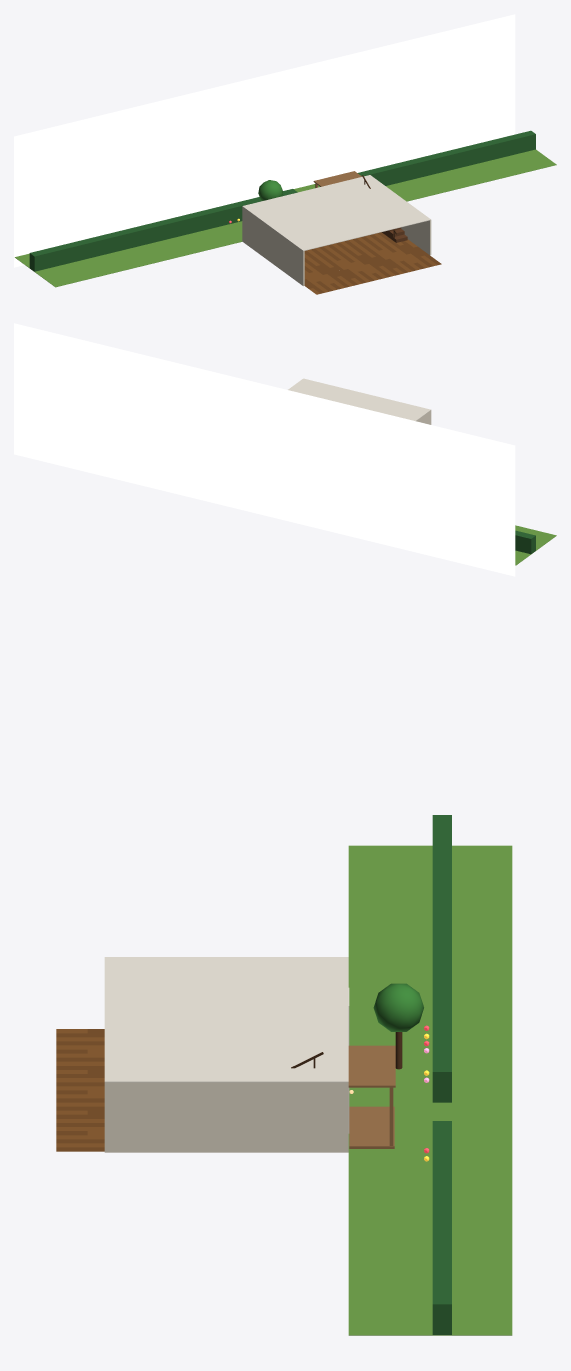
The model's file is big_house.glb.
The picture shows the model from 3 angles, top to bottom: view 1: azimuth 30°, elevation 25°; view 2: azimuth 150°, elevation 25°; view 3: azimuth 270°, elevation 25°; orthographic projection. The views are drawn at different scales.
Visible parts, largest first — view 1: Sky, Ceiling, Lawn, Floor, Hedge, Hedge2, SideWallL, SideWallR, TreeTop, PorchRoof; view 2: Sky, Ceiling, Lawn, Hedge; view 3: Lawn, Ceiling, SideWallR, Floor, Hedge, Hedge2, PorchRoof, TreeTop, PorchDeck.
Part boxes in pixels (x1=…): Sky: x1=14, y1=14, x2=515, y2=267; Ceiling: x1=242, y1=175, x2=430, y2=251; Lawn: x1=15, y1=149, x2=556, y2=287; Floor: x1=304, y1=232, x2=441, y2=294; Hedge: x1=29, y1=189, x2=297, y2=271; Hedge2: x1=357, y1=130, x2=535, y2=185; SideWallL: x1=243, y1=207, x2=304, y2=286; SideWallR: x1=401, y1=220, x2=431, y2=255; TreeTop: x1=258, y1=180, x2=282, y2=200; PorchRoof: x1=313, y1=171, x2=361, y2=186; Sky: x1=14, y1=323, x2=515, y2=576; Ceiling: x1=288, y1=378, x2=430, y2=421; Lawn: x1=515, y1=525, x2=556, y2=565; Hedge: x1=515, y1=530, x2=535, y2=554; Lawn: x1=348, y1=845, x2=512, y2=1335; Ceiling: x1=104, y1=957, x2=348, y2=1082; SideWallR: x1=104, y1=1082, x2=345, y2=1152; Floor: x1=56, y1=1029, x2=104, y2=1151; Hedge: x1=432, y1=815, x2=451, y2=1102; Hedge2: x1=432, y1=1121, x2=451, y2=1334; PorchRoof: x1=348, y1=1045, x2=395, y2=1087; TreeTop: x1=373, y1=983, x2=423, y2=1031; PorchDeck: x1=349, y1=1106, x2=394, y2=1148.
Size of the model in its own units: 48 by 12 by 19.
